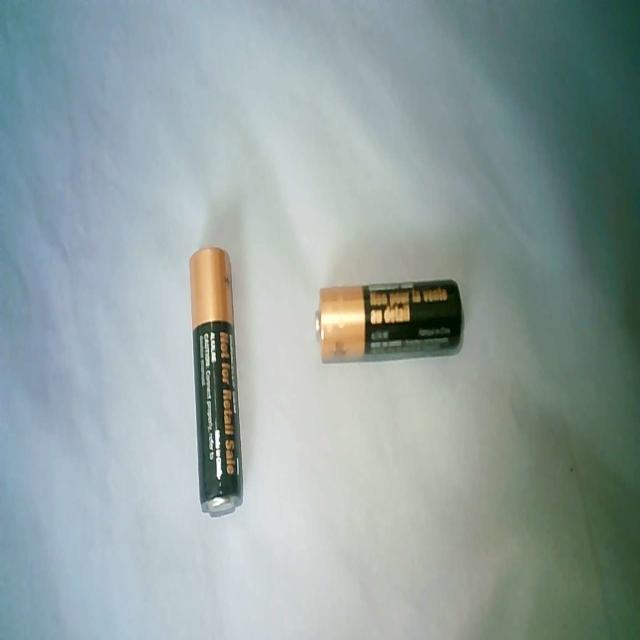AA: (188, 245, 244, 517), (314, 277, 464, 364)
